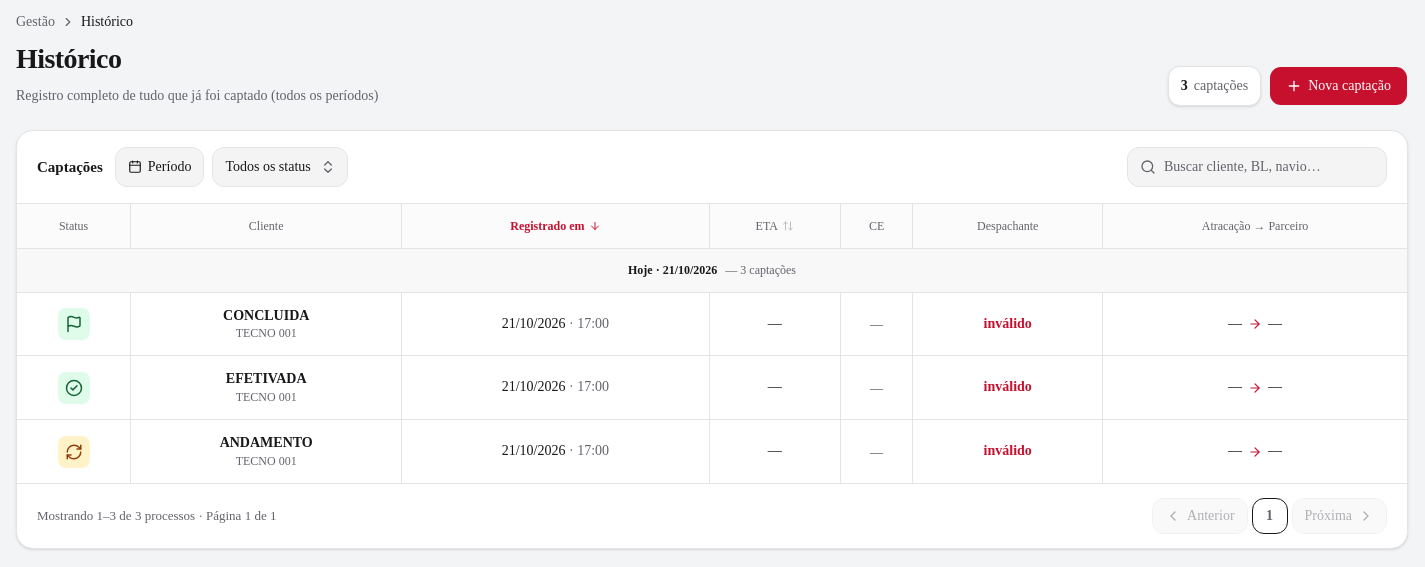
Test case: HistoricoPage › filtro de status separa concluído/efetivado/em andamento
This screenshot has width=1425, height=567.
expect the text "CONCLUIDA" is shown: met, box [223,308,309,322]
Select "Efetivado" in the dropdown at [280, 167], box [212,147,348,187]
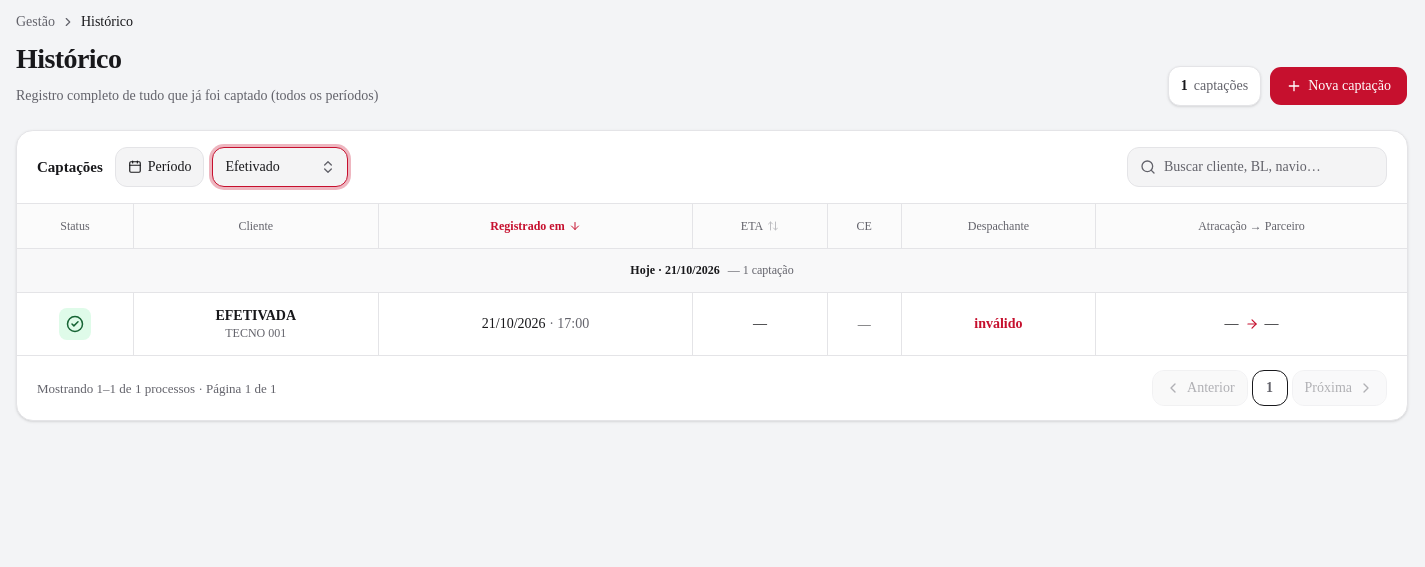
expect the text "EFETIVADA" is shown: met, box [215,308,296,322]
expect the text "CONCLUIDA" is gone: met
expect the text "ANDAMENTO" is gone: met
